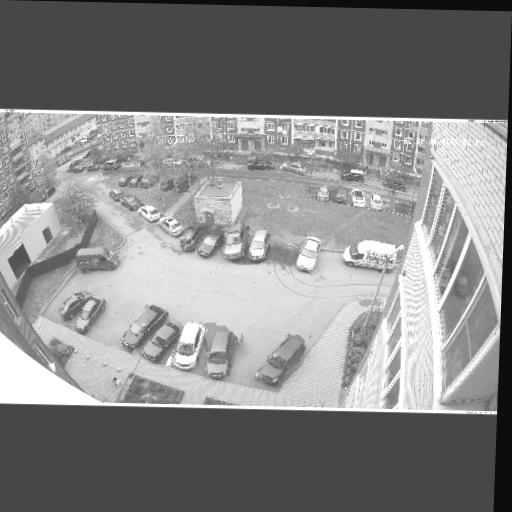busy: (250, 333, 306, 387), (134, 305, 183, 365), (116, 303, 164, 356), (196, 326, 242, 380), (337, 237, 397, 273), (58, 291, 106, 335), (169, 321, 208, 371), (70, 244, 121, 276), (216, 224, 252, 264), (290, 236, 321, 274), (241, 229, 271, 264), (196, 226, 224, 260), (174, 224, 204, 254), (156, 216, 186, 237), (137, 204, 162, 222), (281, 160, 309, 176), (347, 190, 367, 208), (331, 187, 351, 205), (155, 177, 179, 191), (119, 196, 140, 211), (247, 161, 273, 173), (314, 185, 333, 201), (367, 195, 385, 211), (117, 174, 136, 187), (137, 177, 156, 190), (105, 189, 123, 202), (69, 163, 87, 174), (86, 163, 101, 171)
free: (232, 335, 270, 381), (95, 317, 127, 343), (269, 242, 297, 267), (316, 249, 343, 273), (314, 168, 336, 180), (98, 183, 112, 196)
